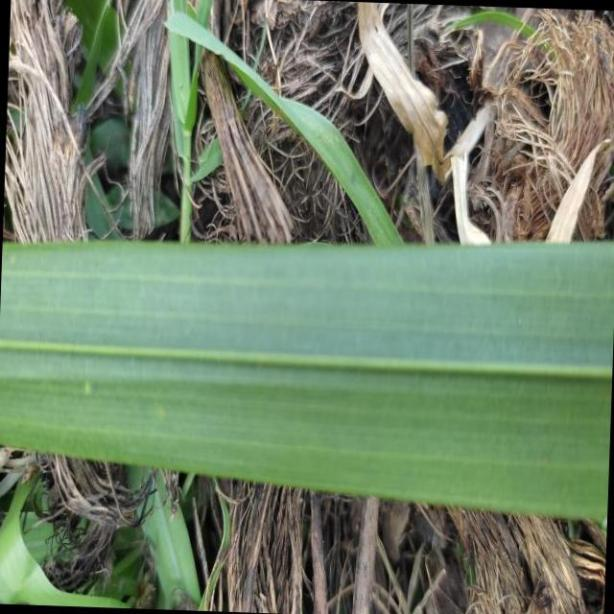Healthy: (0, 241, 614, 523)
